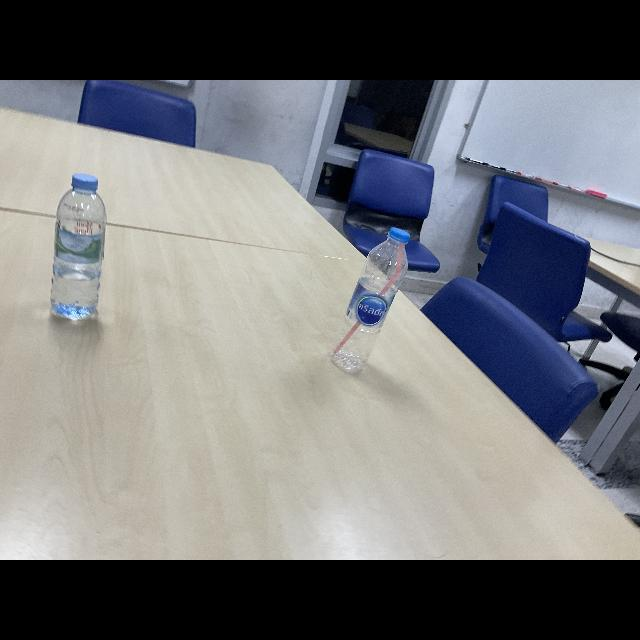plastic_bottle: (332, 226, 410, 378), (50, 172, 108, 322)
plastic_bottle_cap: (68, 170, 100, 193), (386, 227, 412, 245)
straw: (331, 240, 404, 358)
